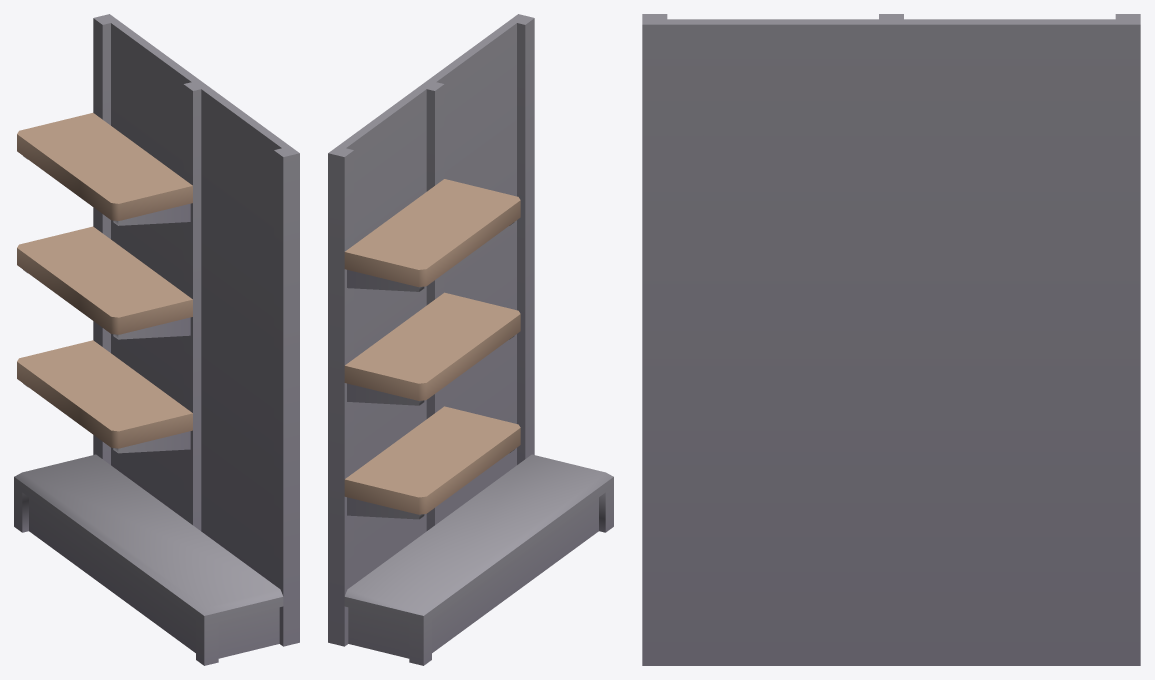
Rendered from retail-shelf-wide-half.glb.
3 renders of one model, left to right at view 1: azimuth 30°, elevation 25°; view 2: azimuth 150°, elevation 25°; view 3: azimuth 270°, elevation 25°, orthographic. The views are drawn at different scales.
Visible parts, largest first — view 1: retail-shelf-wide-half; view 2: retail-shelf-wide-half; view 3: retail-shelf-wide-half.
Part boxes in pixels (x1,y1,x2,y2): retail-shelf-wide-half: (14,14,299,665); retail-shelf-wide-half: (328,14,613,665); retail-shelf-wide-half: (642,14,1140,665).
Size of the model in its own units: 0.29 by 1.42 by 1.
